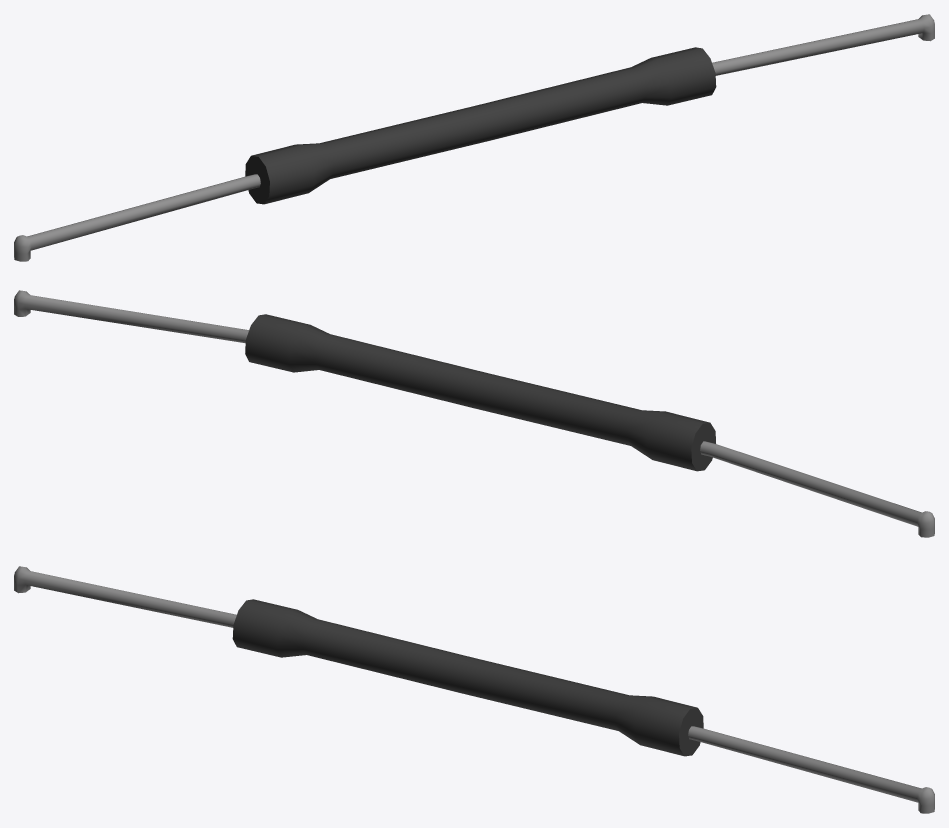
File: steer.glb
3 views of the same model, one above another, from view 1: azimuth 30°, elevation 25°; view 2: azimuth 150°, elevation 25°; view 3: azimuth 330°, elevation 25° (orthographic).
Parts seen in each view (by area): view 1: lansdale_steeringbox, lansdale_tierod_F; view 2: lansdale_steeringbox, lansdale_tierod_F; view 3: lansdale_steeringbox, lansdale_tierod_F.
Boxes of the visible parts, box(x1,y1,x2,y2) form: lansdale_steeringbox: box(245, 47, 716, 204); lansdale_tierod_F: box(14, 14, 934, 261); lansdale_steeringbox: box(245, 314, 715, 471); lansdale_tierod_F: box(14, 290, 934, 537); lansdale_steeringbox: box(232, 599, 703, 756); lansdale_tierod_F: box(14, 566, 934, 813).
Size of the model in its own units: 0.0356 by 0.00185 by 0.00162.
2 materials, 1 textured.
